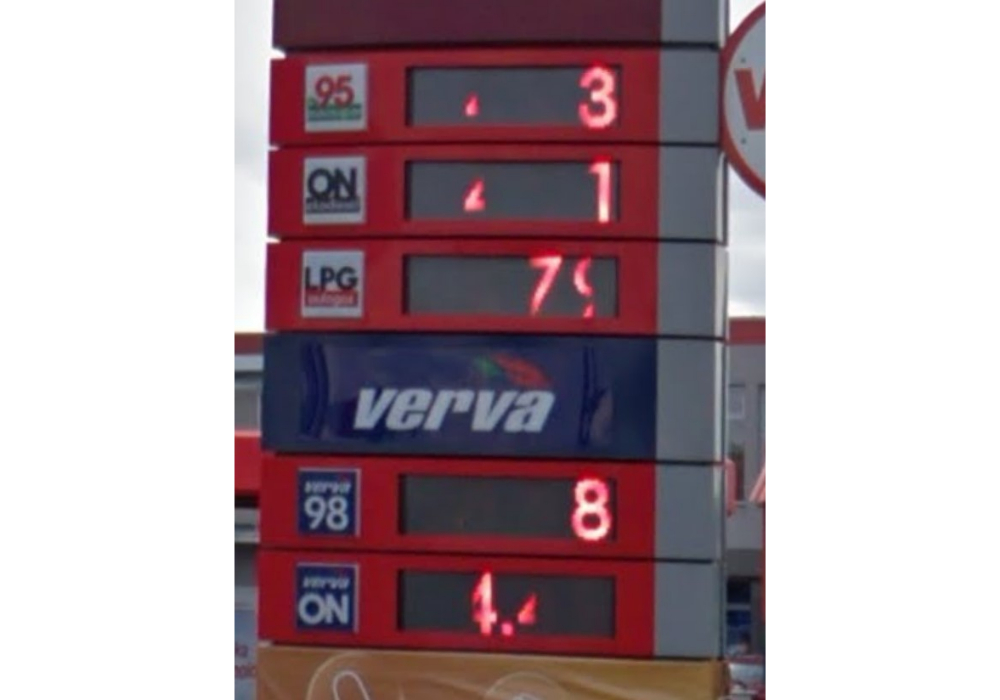LPG: (298, 246, 364, 320)
ON: (290, 560, 358, 635), (299, 153, 365, 227)
PB95: (302, 62, 368, 135)
PB98: (293, 466, 360, 539)
